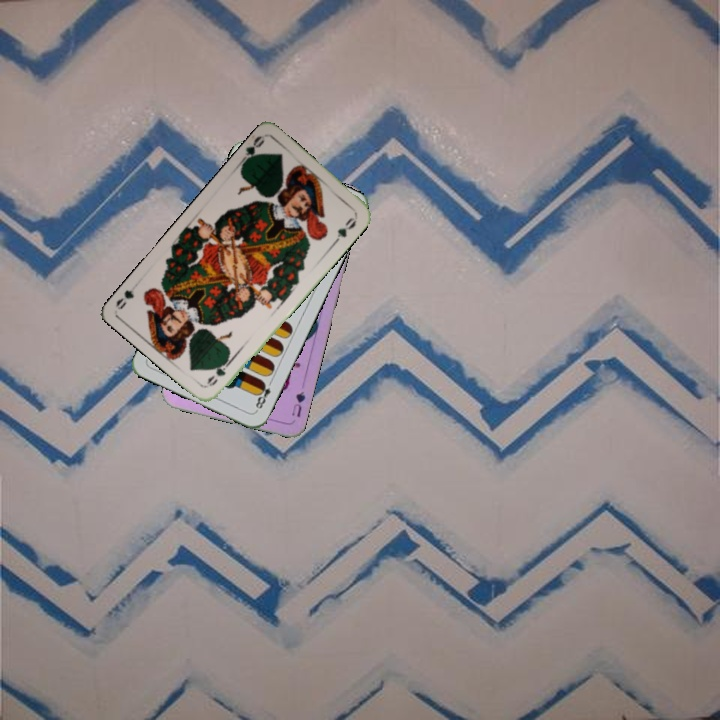E8: (251, 376, 275, 414)
GO: (235, 132, 267, 170), (202, 353, 235, 389)
GU: (287, 385, 308, 420)
